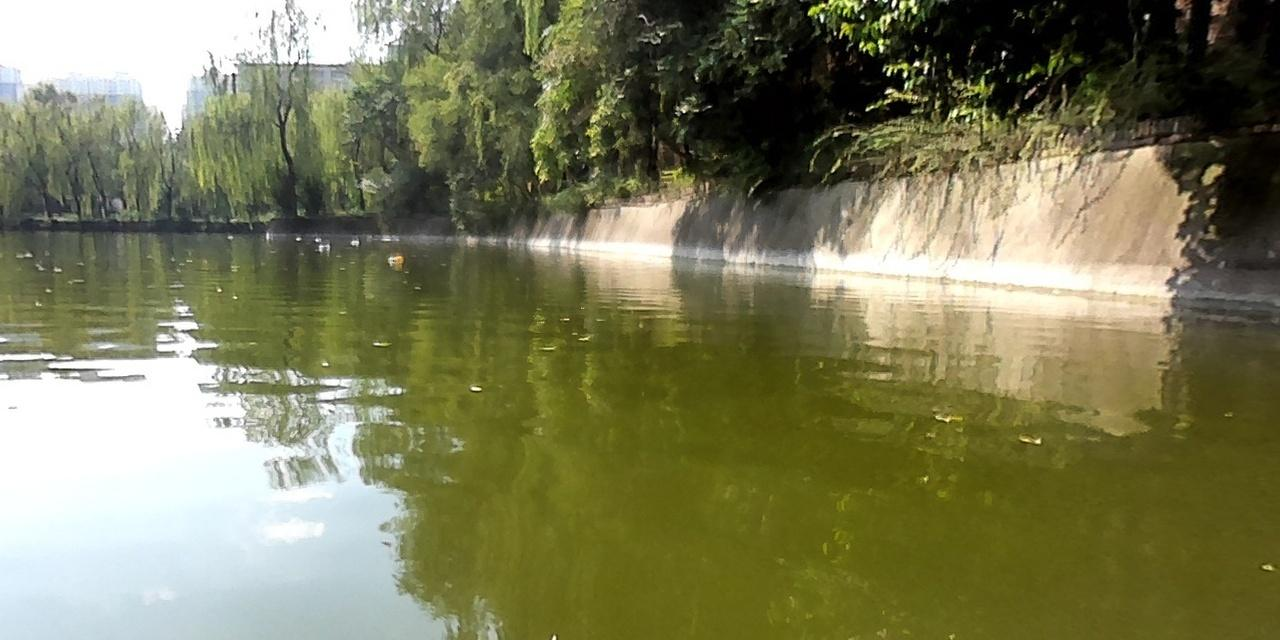bottle: (384, 252, 403, 266), (316, 241, 330, 252), (349, 238, 359, 246)
